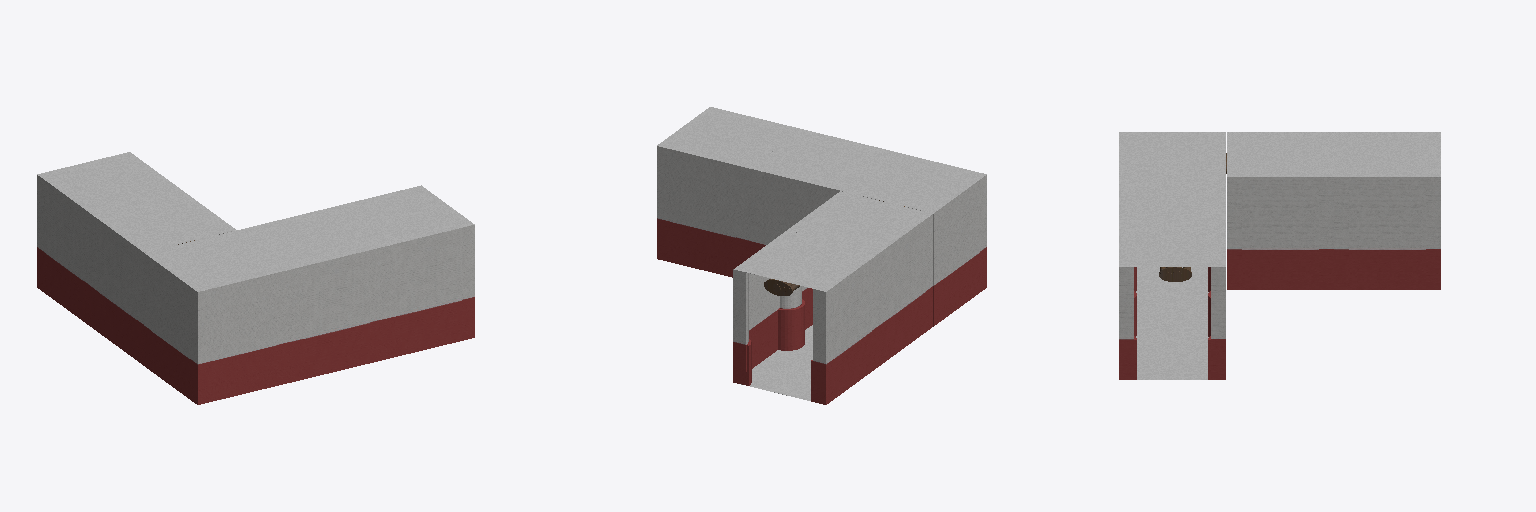
The picture shows the model from 3 angles: view 1: azimuth 30°, elevation 25°; view 2: azimuth 150°, elevation 25°; view 3: azimuth 270°, elevation 25°; orthographic projection.
Visible parts, largest first — view 1: Plane.029_Plane.044, Plane.031_Plane.046, Plane.030_Plane.045, Plane.033_Plane.048, Plane.032_Plane.047, Circle.117_Circle.193, Circle.123_Circle.199, Circle.127_Circle.203, Circle.126_Circle.202, Circle.122_Circle.198, Circle.120_Circle.196, Circle.131_Circle.207 (+4 smaller); view 2: Plane.032_Plane.047, Plane.031_Plane.046, Plane.033_Plane.048, Plane.029_Plane.044, Plane.030_Plane.045, Circle.131_Circle.207, Circle.129_Circle.205, Circle.128_Circle.204, Circle.132_Circle.208, Circle.125_Circle.201, Circle.124_Circle.200, Circle.119_Circle.195 (+4 smaller); view 3: Plane.033_Plane.048, Plane.032_Plane.047, Plane.031_Plane.046, Plane.030_Plane.045, Plane.029_Plane.044, Circle.128_Circle.204, Circle.126_Circle.202, Circle.133_Circle.209, Circle.132_Circle.208, Circle.136_Circle.212, Circle.129_Circle.205.
Boxes of the visible parts, x1,y1,x2,y2 form: Plane.029_Plane.044: [145, 230, 289, 400]; Plane.031_Plane.046: [329, 185, 474, 355]; Plane.030_Plane.045: [237, 208, 380, 378]; Plane.033_Plane.048: [91, 191, 235, 365]; Plane.032_Plane.047: [37, 152, 182, 320]; Circle.117_Circle.193: [190, 287, 212, 404]; Circle.123_Circle.199: [290, 267, 305, 382]; Circle.127_Circle.203: [383, 244, 397, 359]; Circle.126_Circle.202: [462, 225, 474, 340]; Circle.122_Circle.198: [370, 247, 382, 362]; Circle.120_Circle.196: [277, 270, 289, 385]; Circle.131_Circle.207: [37, 175, 45, 293]; Plane.032_Plane.047: [734, 230, 878, 400]; Plane.031_Plane.046: [657, 107, 802, 277]; Plane.033_Plane.048: [788, 191, 932, 365]; Plane.029_Plane.044: [842, 152, 986, 319]; Plane.030_Plane.045: [749, 129, 893, 246]; Circle.131_Circle.207: [811, 287, 834, 404]; Circle.129_Circle.205: [733, 269, 751, 385]; Circle.128_Circle.204: [657, 146, 671, 262]; Circle.132_Circle.208: [778, 287, 802, 350]; Circle.125_Circle.201: [736, 165, 748, 266]; Circle.124_Circle.200: [749, 169, 763, 257]; Circle.119_Circle.195: [933, 209, 942, 326]; Plane.033_Plane.048: [1227, 132, 1333, 289]; Plane.032_Plane.047: [1334, 132, 1440, 289]; Plane.031_Plane.046: [1119, 222, 1225, 379]; Plane.030_Plane.045: [1119, 177, 1225, 334]; Plane.029_Plane.044: [1119, 132, 1225, 289]; Circle.128_Circle.204: [1208, 267, 1225, 379]; Circle.126_Circle.202: [1119, 267, 1136, 379]; Circle.133_Circle.209: [1227, 177, 1244, 289]; Circle.132_Circle.208: [1334, 177, 1351, 289]; Circle.136_Circle.212: [1319, 177, 1333, 289]; Circle.129_Circle.205: [1426, 177, 1440, 289].
Bounding box in the file's own units: 35.96 × 14.02 × 36.16.
Materials: 4 (3 with a texture image).